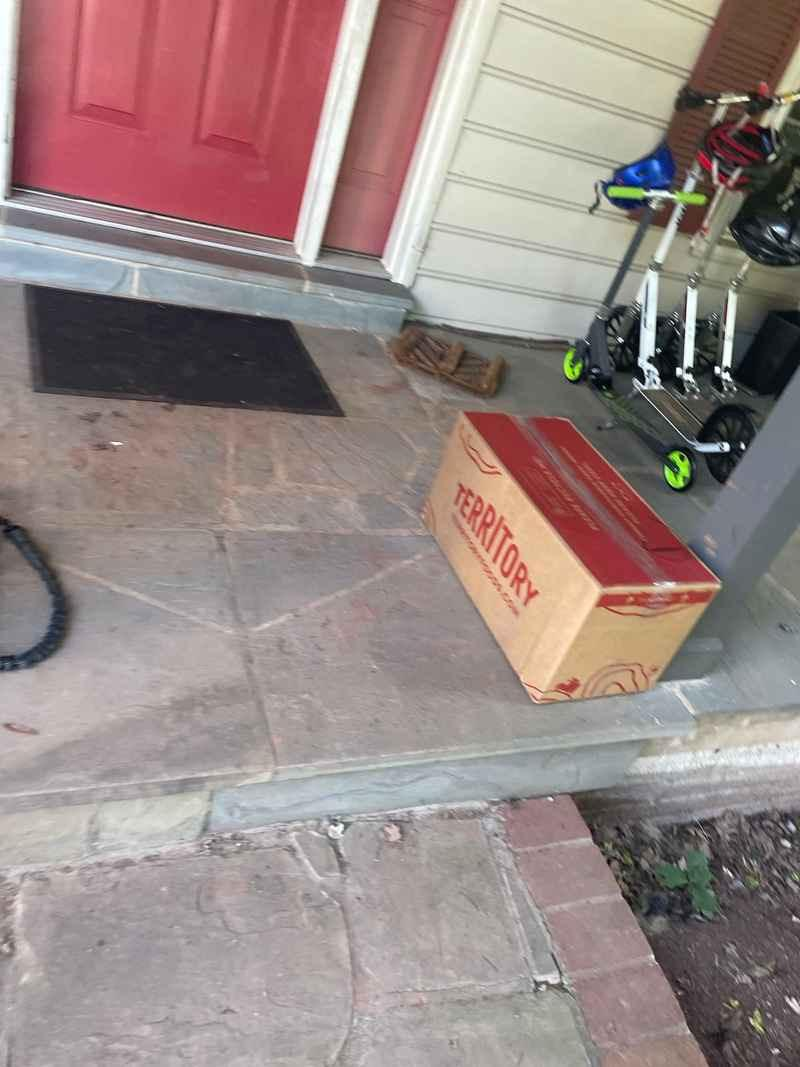package: (426, 411, 722, 707)
